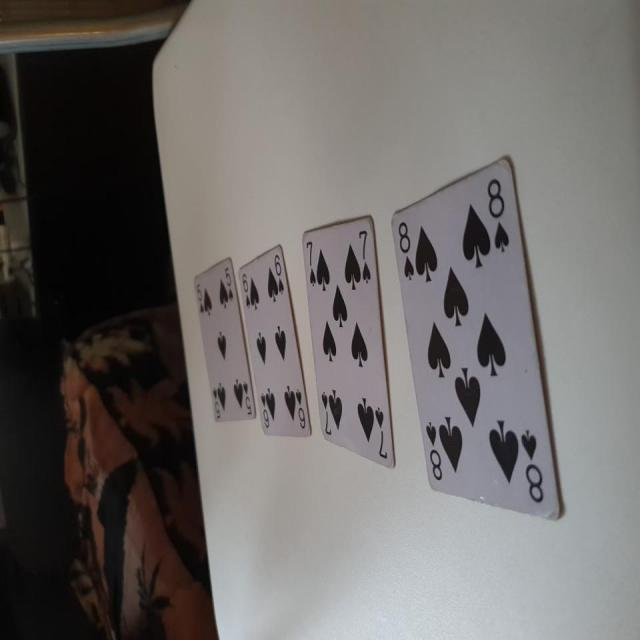5 Spades: (192, 262, 259, 430)
6 Spades: (238, 244, 313, 440)
7 Spades: (292, 214, 399, 478)
8 Spades: (383, 151, 563, 531)
